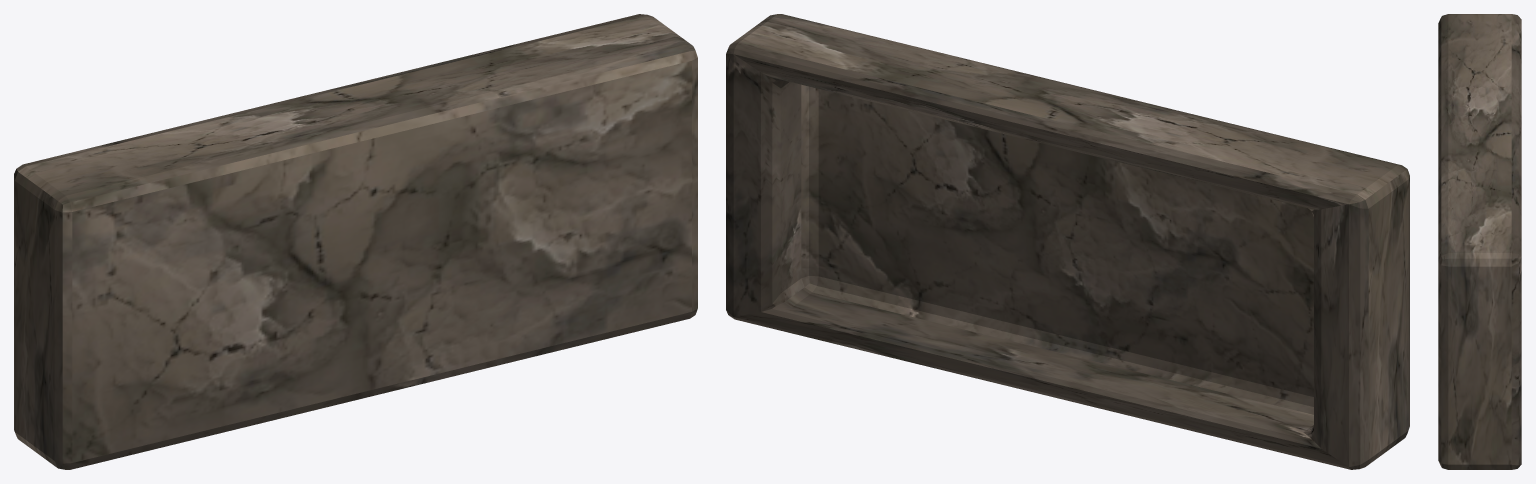
Rendered from Lava Boat.fbx.
The picture shows the model from 3 angles, left to right: view 1: azimuth 30°, elevation 25°; view 2: azimuth 150°, elevation 25°; view 3: azimuth 270°, elevation 25°; orthographic projection. The views are drawn at different scales.
Visible parts, largest first — view 1: Boat.001; view 2: Boat.001; view 3: Boat.001.
Part boxes in pixels (x1,y1,x2,y2): Boat.001: (14, 14, 697, 469); Boat.001: (726, 14, 1409, 469); Boat.001: (1438, 14, 1521, 469).
Bounding box in the file's own units: 201 × 82.06 × 28.64.
